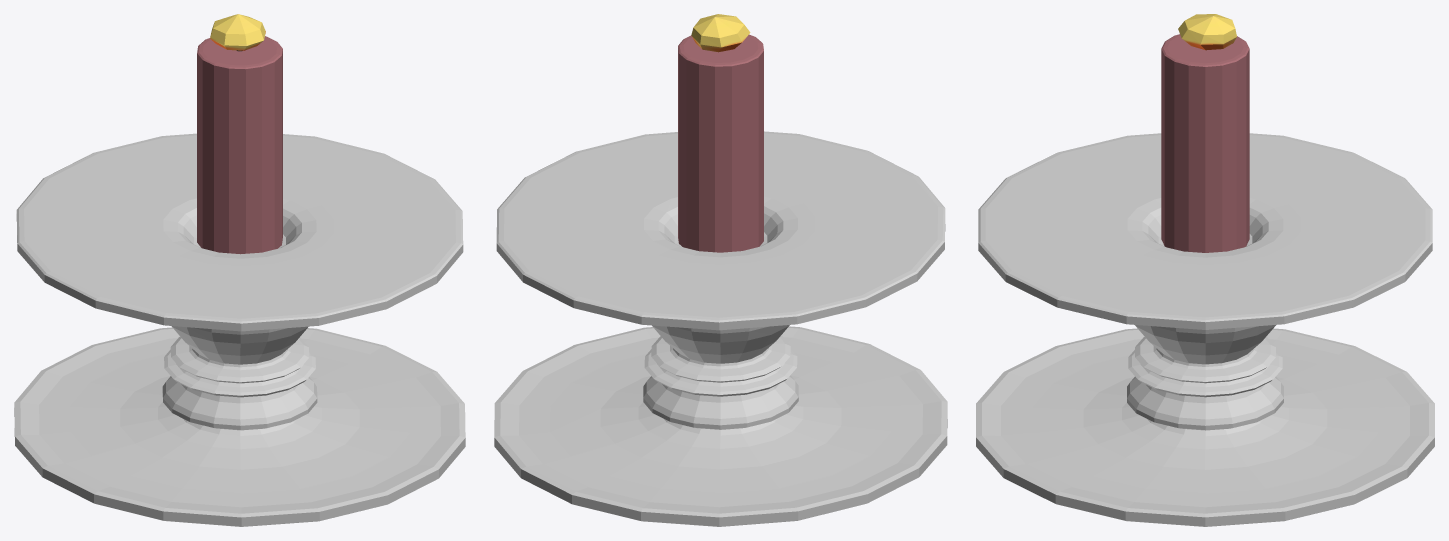
File: sh-scopia-candle.glb
The picture shows the model from 3 angles, left to right: view 1: azimuth 30°, elevation 25°; view 2: azimuth 150°, elevation 25°; view 3: azimuth 270°, elevation 25°; orthographic projection.
Visible parts, largest first — view 1: candleHolder_Plane, Cylinder_Cylinder.001, 4; view 2: candleHolder_Plane, Cylinder_Cylinder.001, 4; view 3: candleHolder_Plane, Cylinder_Cylinder.001, 4.
Part boxes in pixels (x1,y1,x2,y2): candleHolder_Plane: [14, 133, 465, 526]; Cylinder_Cylinder.001: [197, 36, 282, 254]; 4: [210, 14, 265, 50]; candleHolder_Plane: [494, 131, 947, 526]; Cylinder_Cylinder.001: [678, 34, 763, 252]; 4: [691, 14, 750, 52]; candleHolder_Plane: [976, 133, 1434, 526]; Cylinder_Cylinder.001: [1161, 34, 1249, 252]; 4: [1178, 14, 1236, 50].
Bounding box in the file's own units: 1 × 1 × 1.
4 materials, 1 textured.
